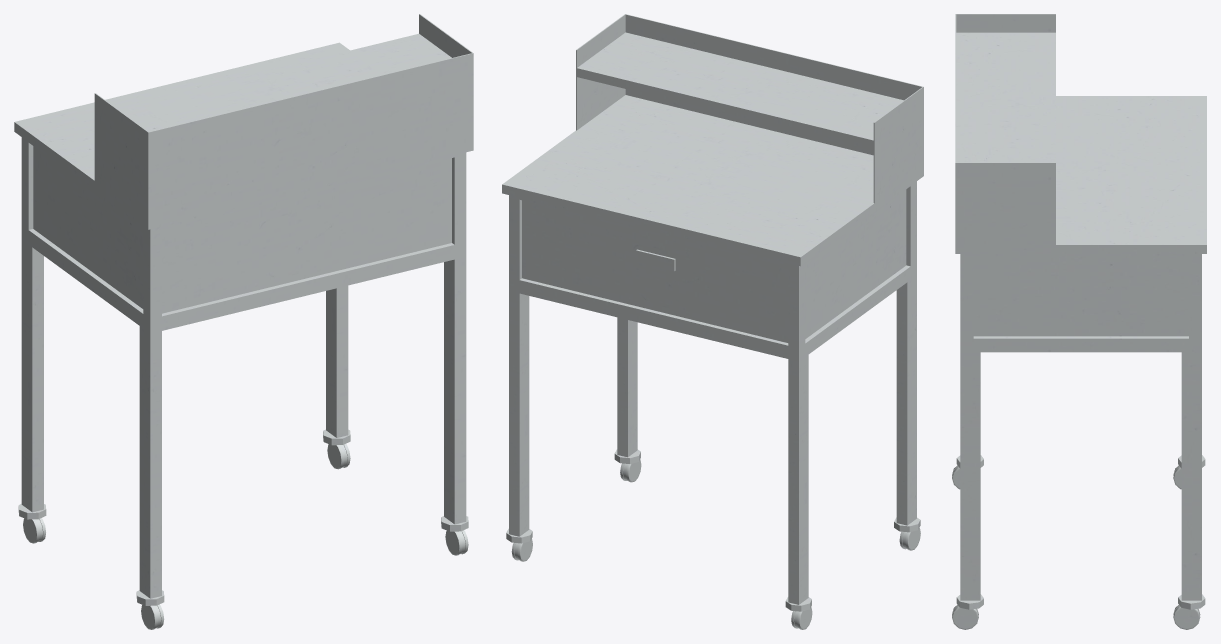
File: SM_解剖房_物品台_01.fbx
The picture shows the model from 3 angles, left to right: view 1: azimuth 30°, elevation 25°; view 2: azimuth 150°, elevation 25°; view 3: azimuth 270°, elevation 25°; orthographic projection. The views are drawn at different scales.
Parts seen in each view (by area): view 1: SM_解剖房_物品台_01; view 2: SM_解剖房_物品台_01; view 3: SM_解剖房_物品台_01.
Part boxes in pixels (x1,y1,x2,y2): SM_解剖房_物品台_01: [14, 14, 473, 629]; SM_解剖房_物品台_01: [502, 14, 923, 629]; SM_解剖房_物品台_01: [952, 14, 1206, 629].
Size of the model in its own units: 709 by 1032 by 507.
